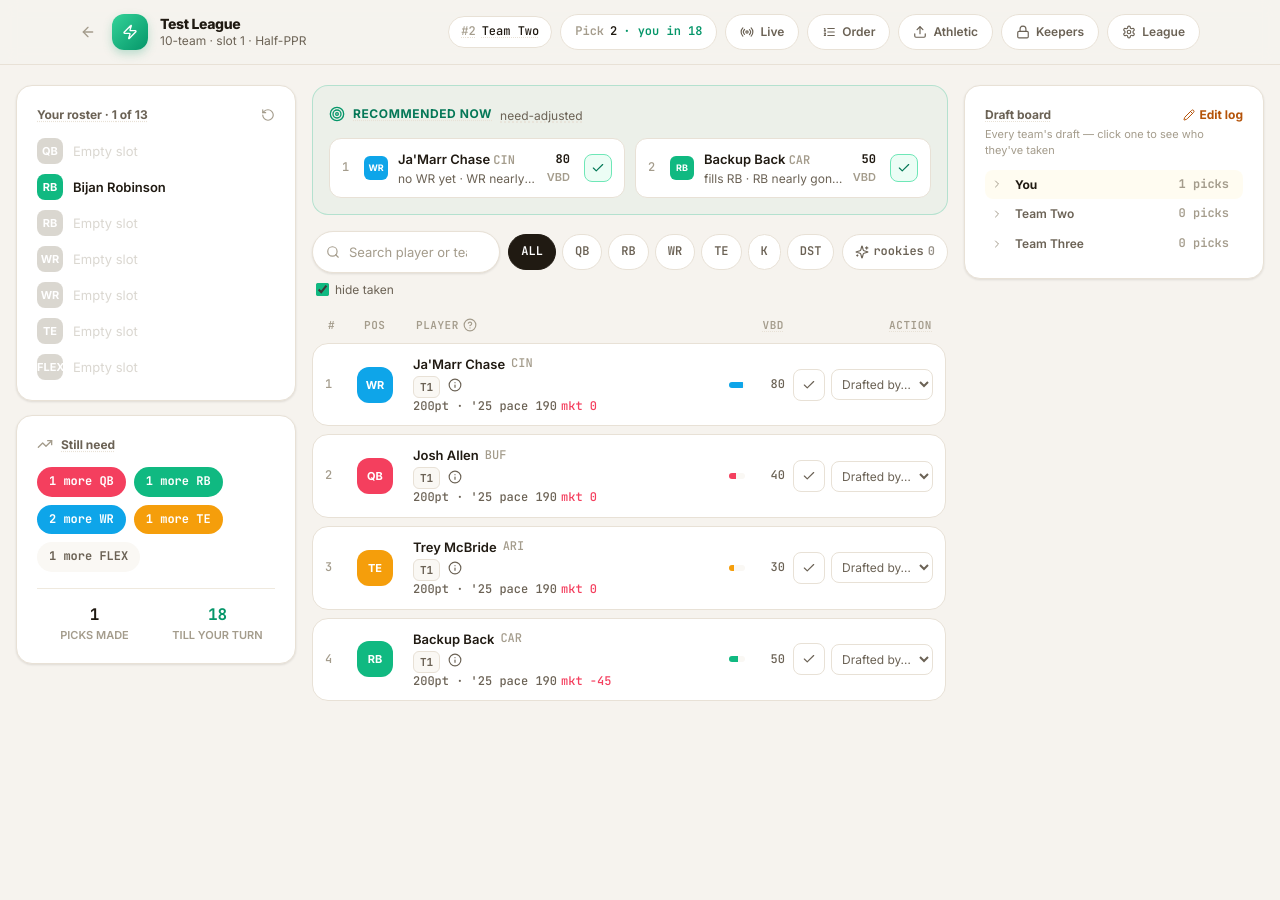
Test: SnakeRoom bye-collision flag (real-time, unpriced) › does not flag a different position, or the owned player himself
The image size is (1280, 900).
Click the checkbox labelled "hide taken": click(322, 290) [316,284,329,296]
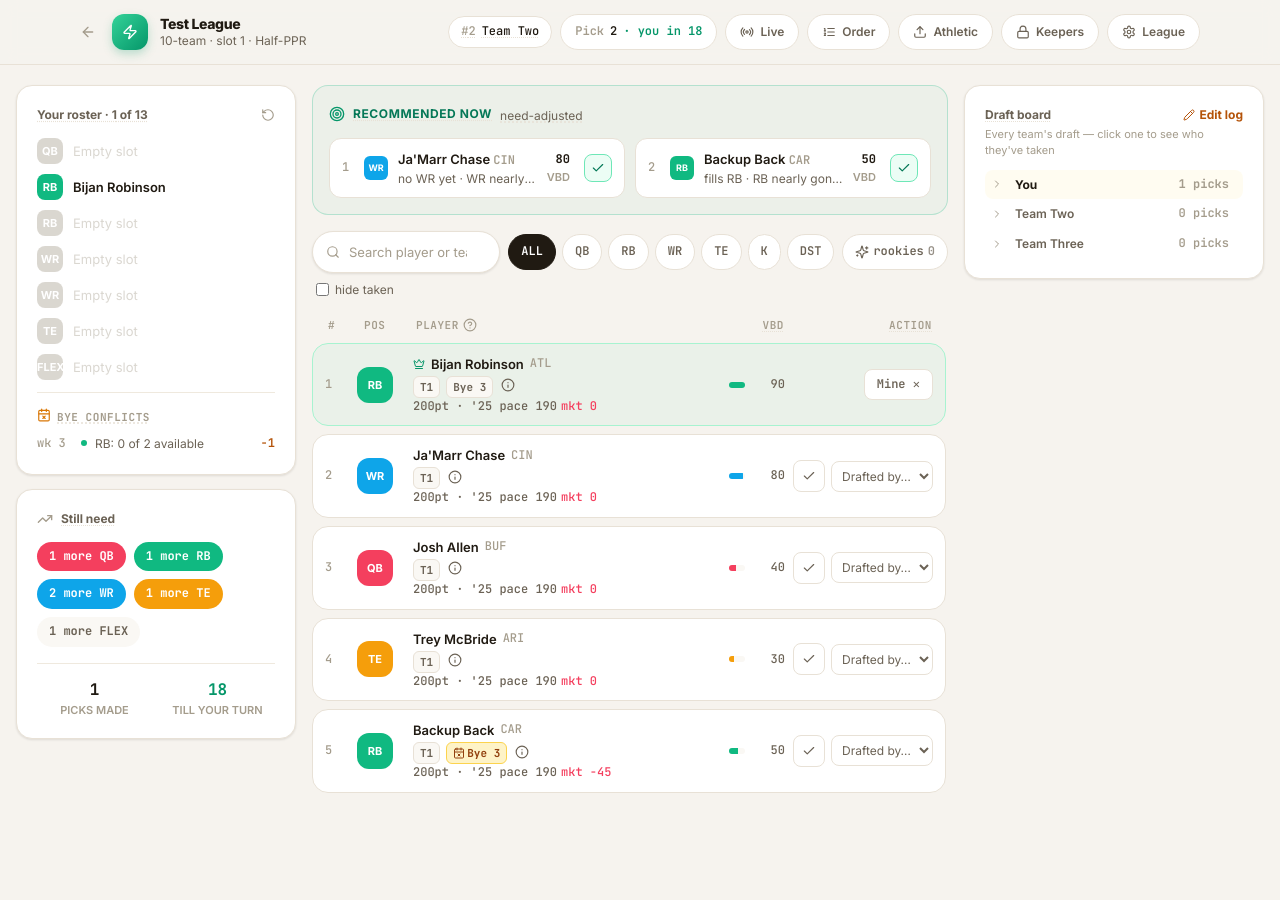
Result: the icon named "bye clash" is shown at [453,747,465,759]
